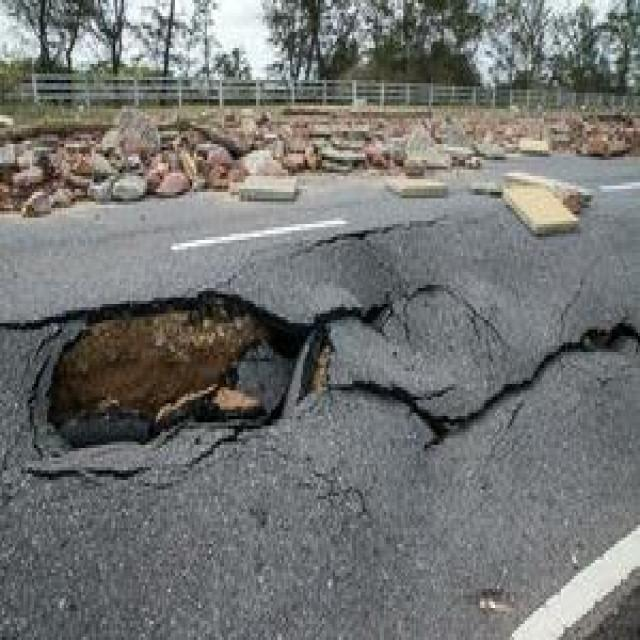road collapse: (13, 170, 640, 602)
